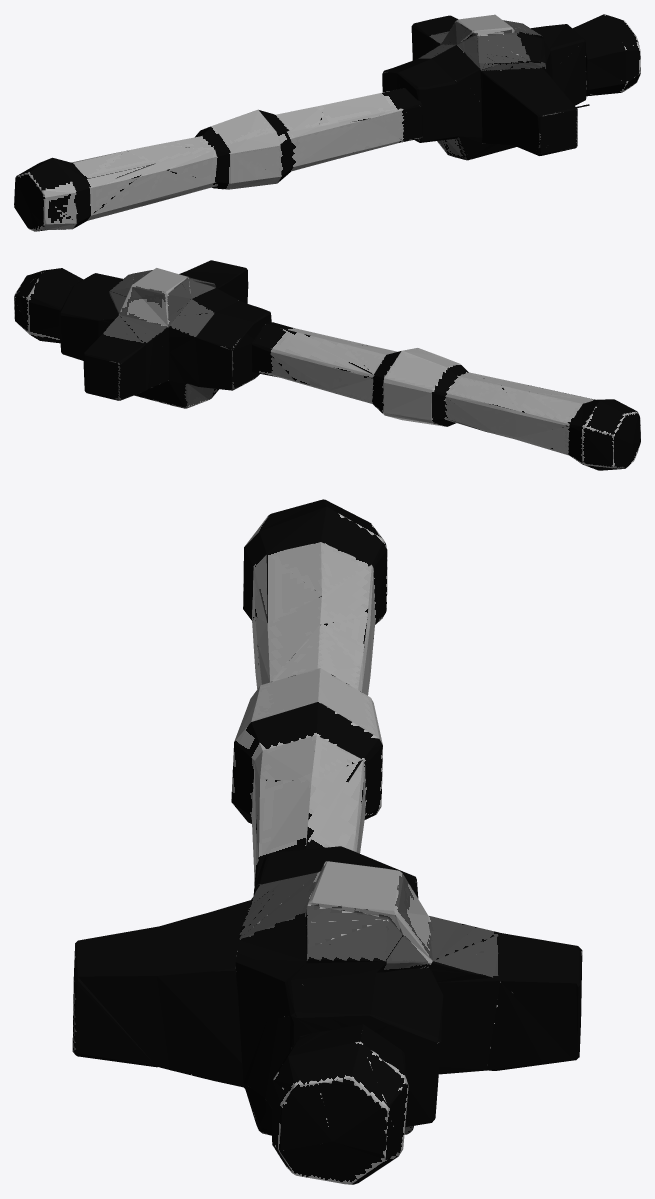
The picture shows the model from 3 angles, top to bottom: view 1: azimuth 30°, elevation 25°; view 2: azimuth 150°, elevation 25°; view 3: azimuth 270°, elevation 25°; orthographic projection. The views are drawn at different scales.
Visible parts, largest first — view 1: OBJ0aa; view 2: OBJ0aa; view 3: OBJ0aa.
Part boxes in pixels (left/top/right/bottom): OBJ0aa: left=14, top=14, right=640, bottom=231; OBJ0aa: left=14, top=260, right=640, bottom=470; OBJ0aa: left=72, top=499, right=582, bottom=1184.
Size of the model in its own units: 0.3219 by 0.0601 by 0.1188.
Materials: 1 (1 with a texture image).
